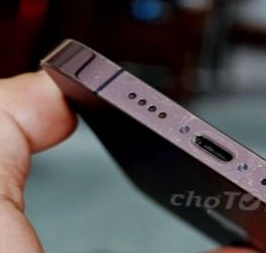scratch: (129, 83, 262, 190), (87, 58, 124, 86)
